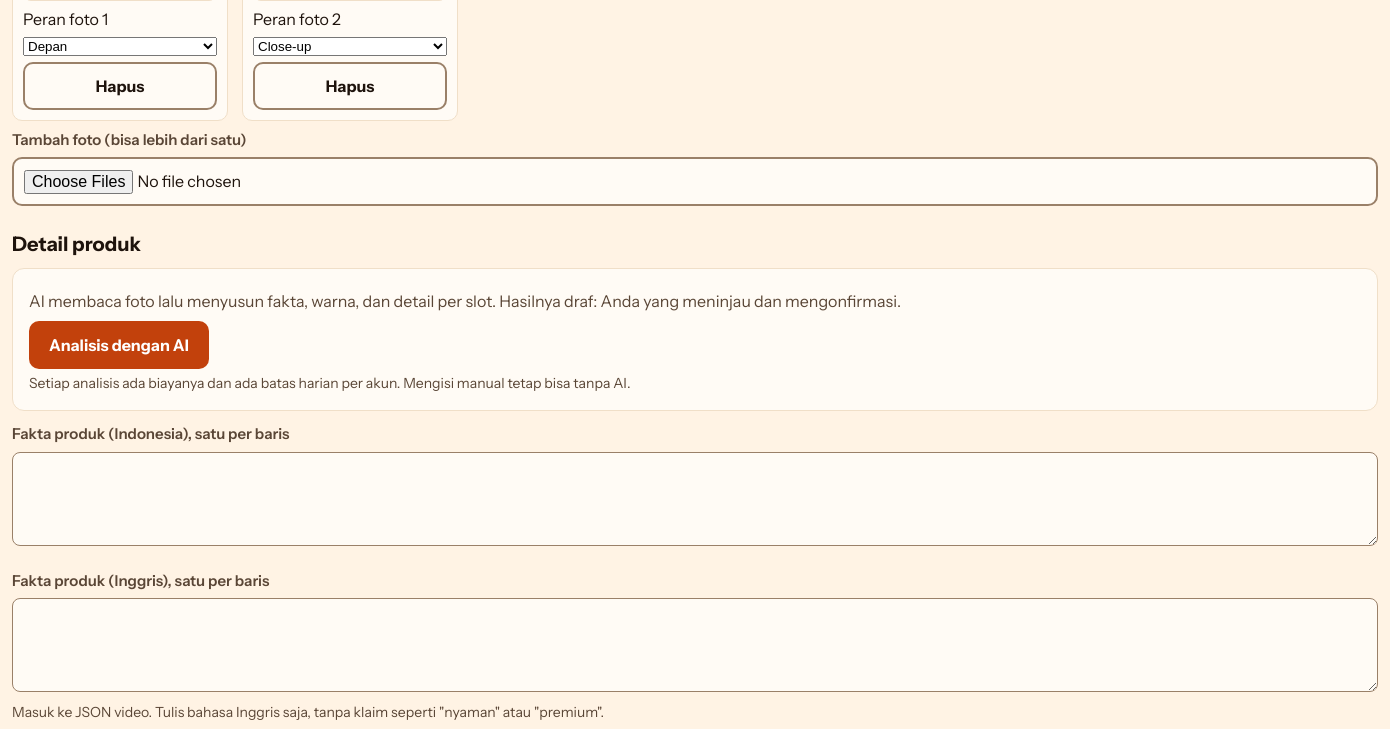
Scenario: halaman Produk detail › admin melihat biaya analisis dalam Rupiah dan USD
(page scrolled)
Click the button with test id "analisis" at (119, 345), box [29,321,209,369]
(page scrolled)
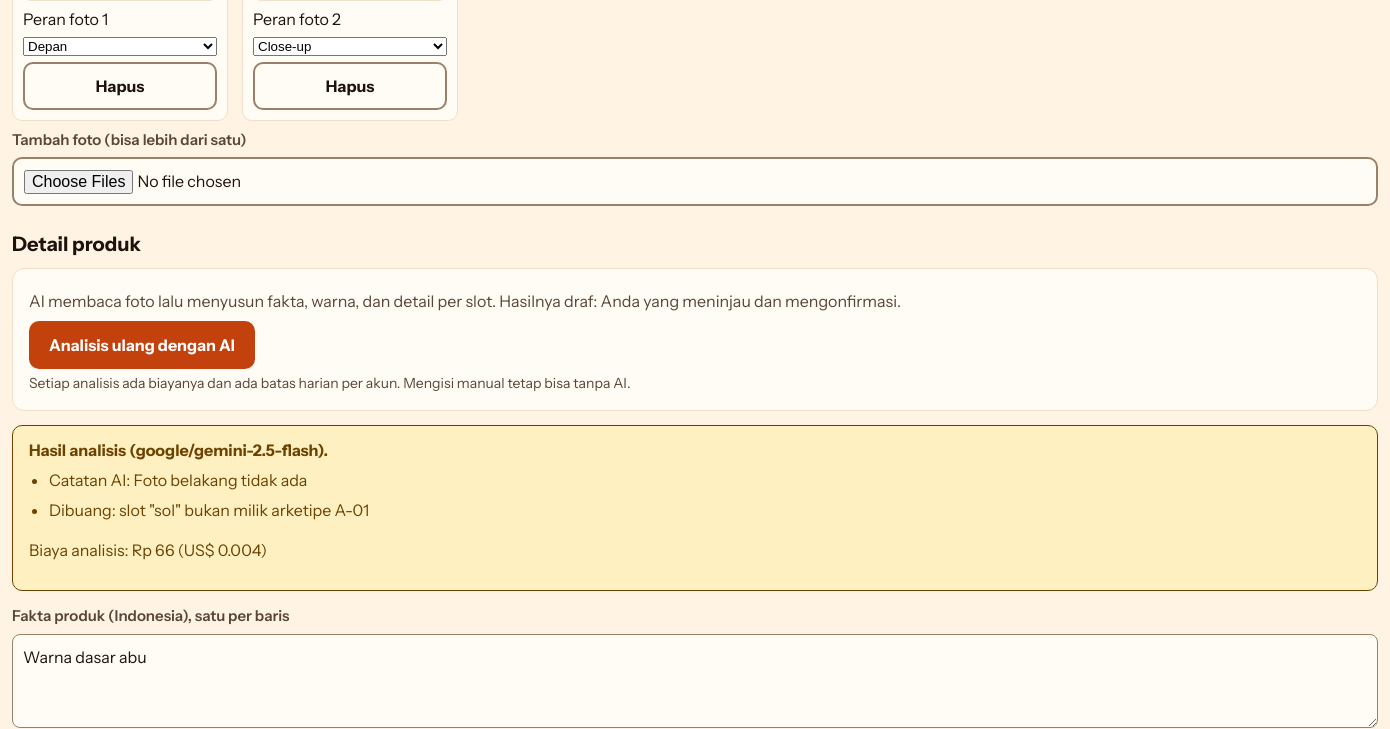
Expected: the text with test id "biaya-analisis" reads "Biaya analisis: Rp 66 (US$ 0.004)", [29,540,267,560]
